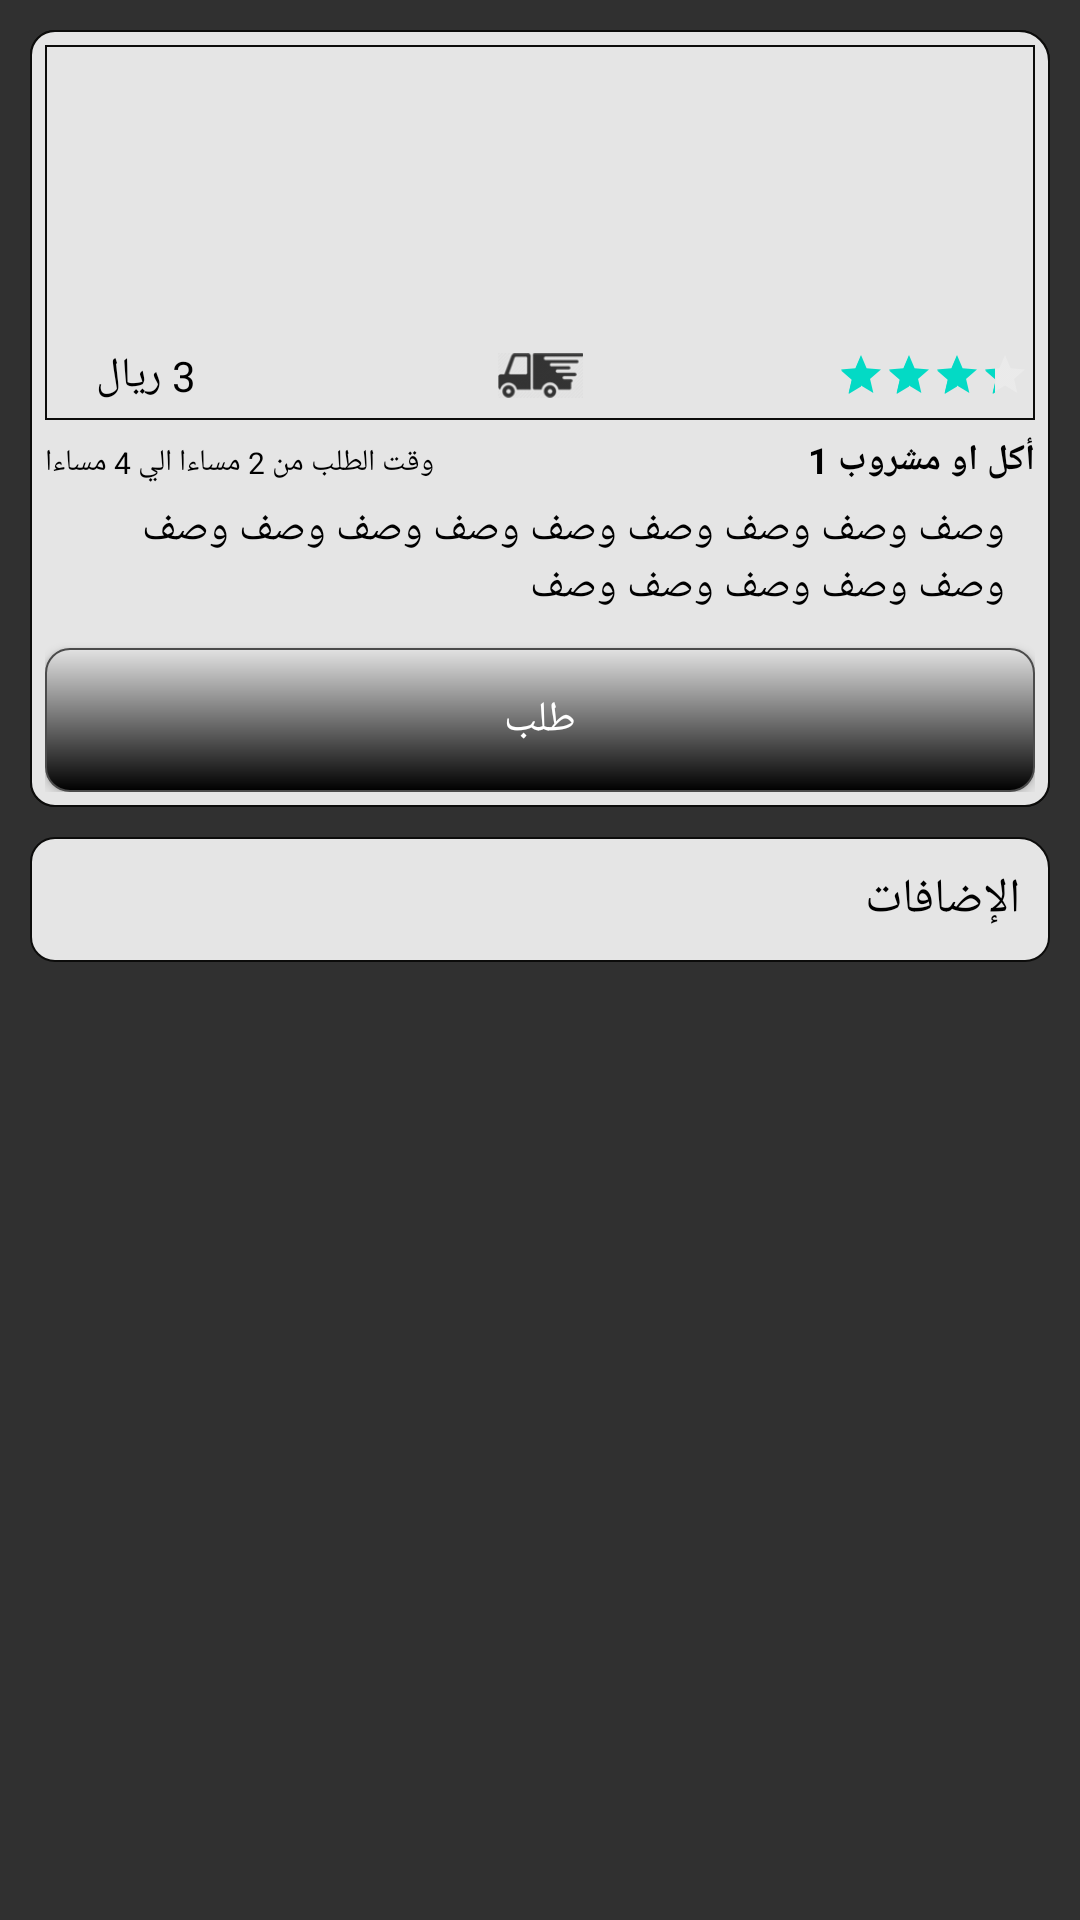

Named icons in this screenshot (1080px x 1920px) and their centers, [x,y]:
deliverable: [540,375]
